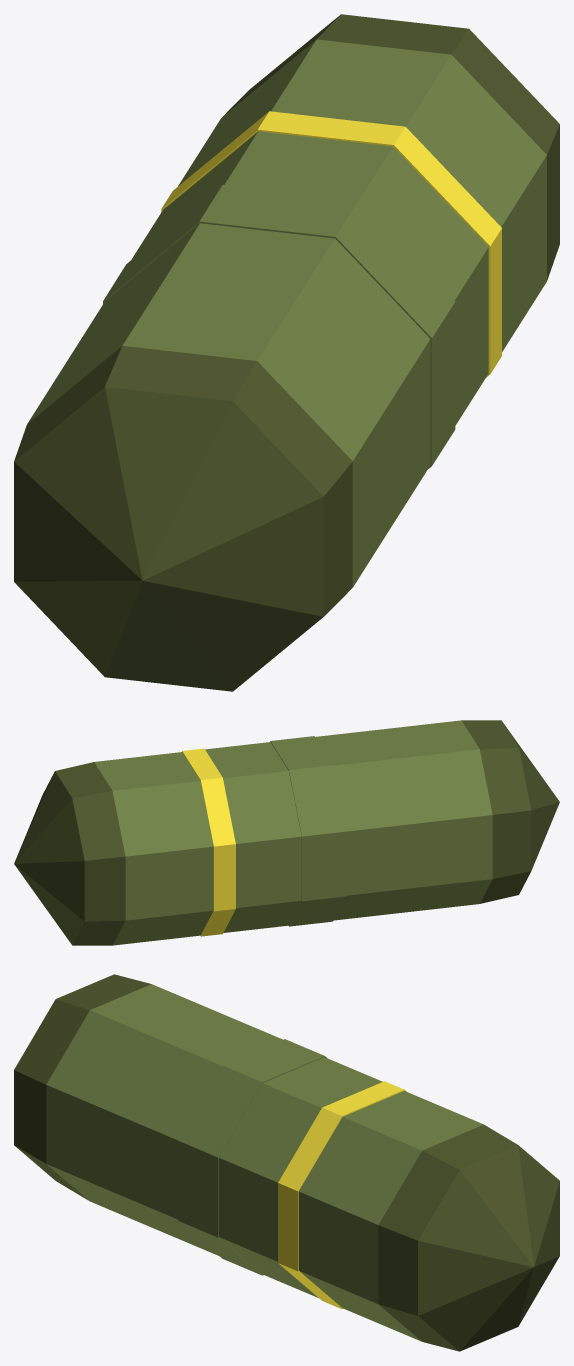
The model's file is ce_ammo2_smaw_heat_a.obj.
3 renders of one model, top to bottom at view 1: azimuth 30°, elevation 25°; view 2: azimuth 150°, elevation 25°; view 3: azimuth 270°, elevation 25°, orthographic. The views are drawn at different scales.
Visible parts, largest first — view 1: ce_ammo2_smaw_heat_a_0, ce_ammo2_smaw_heat_a_2, ce_ammo2_smaw_heat_a_6, ce_ammo2_smaw_heat_a_4, ce_ammo2_smaw_heat_a_1, ce_ammo2_smaw_heat_a_3, ce_ammo2_smaw_heat_a_7, ce_ammo2_smaw_heat_a_5; view 2: ce_ammo2_smaw_heat_a_2, ce_ammo2_smaw_heat_a_6, ce_ammo2_smaw_heat_a_4, ce_ammo2_smaw_heat_a_3, ce_ammo2_smaw_heat_a_7, ce_ammo2_smaw_heat_a_8, ce_ammo2_smaw_heat_a_1, ce_ammo2_smaw_heat_a_5, ce_ammo2_smaw_heat_a_0; view 3: ce_ammo2_smaw_heat_a_2, ce_ammo2_smaw_heat_a_8, ce_ammo2_smaw_heat_a_6, ce_ammo2_smaw_heat_a_4, ce_ammo2_smaw_heat_a_3, ce_ammo2_smaw_heat_a_7, ce_ammo2_smaw_heat_a_1, ce_ammo2_smaw_heat_a_5.
Part boxes in pixels (x1=…): ce_ammo2_smaw_heat_a_0: x1=14, y1=387, x2=323, y2=691; ce_ammo2_smaw_heat_a_2: x1=27, y1=223, x2=430, y2=587; ce_ammo2_smaw_heat_a_6: x1=178, y1=39, x2=546, y2=351; ce_ammo2_smaw_heat_a_4: x1=131, y1=131, x2=488, y2=425; ce_ammo2_smaw_heat_a_1: x1=14, y1=346, x2=352, y2=616; ce_ammo2_smaw_heat_a_3: x1=103, y1=185, x2=455, y2=468; ce_ammo2_smaw_heat_a_7: x1=223, y1=14, x2=559, y2=280; ce_ammo2_smaw_heat_a_5: x1=161, y1=111, x2=501, y2=377; ce_ammo2_smaw_heat_a_2: x1=315, y1=720, x2=492, y2=920; ce_ammo2_smaw_heat_a_6: x1=94, y1=752, x2=213, y2=945; ce_ammo2_smaw_heat_a_4: x1=205, y1=742, x2=301, y2=932; ce_ammo2_smaw_heat_a_3: x1=270, y1=736, x2=345, y2=926; ce_ammo2_smaw_heat_a_7: x1=55, y1=762, x2=125, y2=945; ce_ammo2_smaw_heat_a_8: x1=14, y1=771, x2=84, y2=945; ce_ammo2_smaw_heat_a_1: x1=461, y1=720, x2=531, y2=903; ce_ammo2_smaw_heat_a_5: x1=182, y1=748, x2=235, y2=936; ce_ammo2_smaw_heat_a_0: x1=503, y1=723, x2=559, y2=870; ce_ammo2_smaw_heat_a_2: x1=46, y1=984, x2=282, y2=1255; ce_ammo2_smaw_heat_a_8: x1=418, y1=1145, x2=559, y2=1351; ce_ammo2_smaw_heat_a_6: x1=298, y1=1091, x2=483, y2=1341; ce_ammo2_smaw_heat_a_4: x1=219, y1=1057, x2=382, y2=1297; ce_ammo2_smaw_heat_a_3: x1=178, y1=1039, x2=326, y2=1275; ce_ammo2_smaw_heat_a_7: x1=378, y1=1124, x2=517, y2=1351; ce_ammo2_smaw_heat_a_1: x1=14, y1=974, x2=151, y2=1200; ce_ammo2_smaw_heat_a_5: x1=278, y1=1081, x2=406, y2=1309.
Size of the model in its own units: 0.43 by 0.168 by 0.43.
